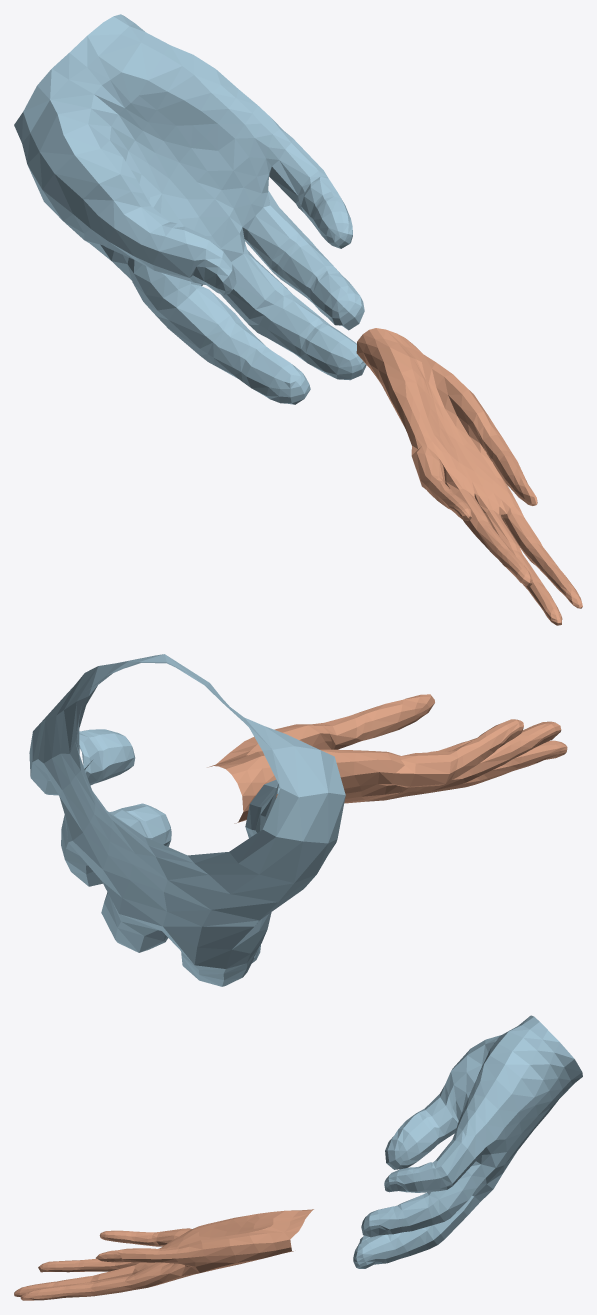
File: frame_019.glb
3 renders of one model, top to bottom at view 1: azimuth 30°, elevation 25°; view 2: azimuth 150°, elevation 25°; view 3: azimuth 270°, elevation 25°, orthographic. The views are drawn at different scales.
Parts seen in each view (by area): view 1: world; view 2: world; view 3: world.
Boxes of the visible parts, left/top/right/bottom form: world: left=14, top=14, right=582, bottom=625; world: left=29, top=654, right=567, bottom=986; world: left=14, top=1015, right=582, bottom=1300.
Bounding box in the file's own units: 0.107 × 0.1459 × 0.3012.
